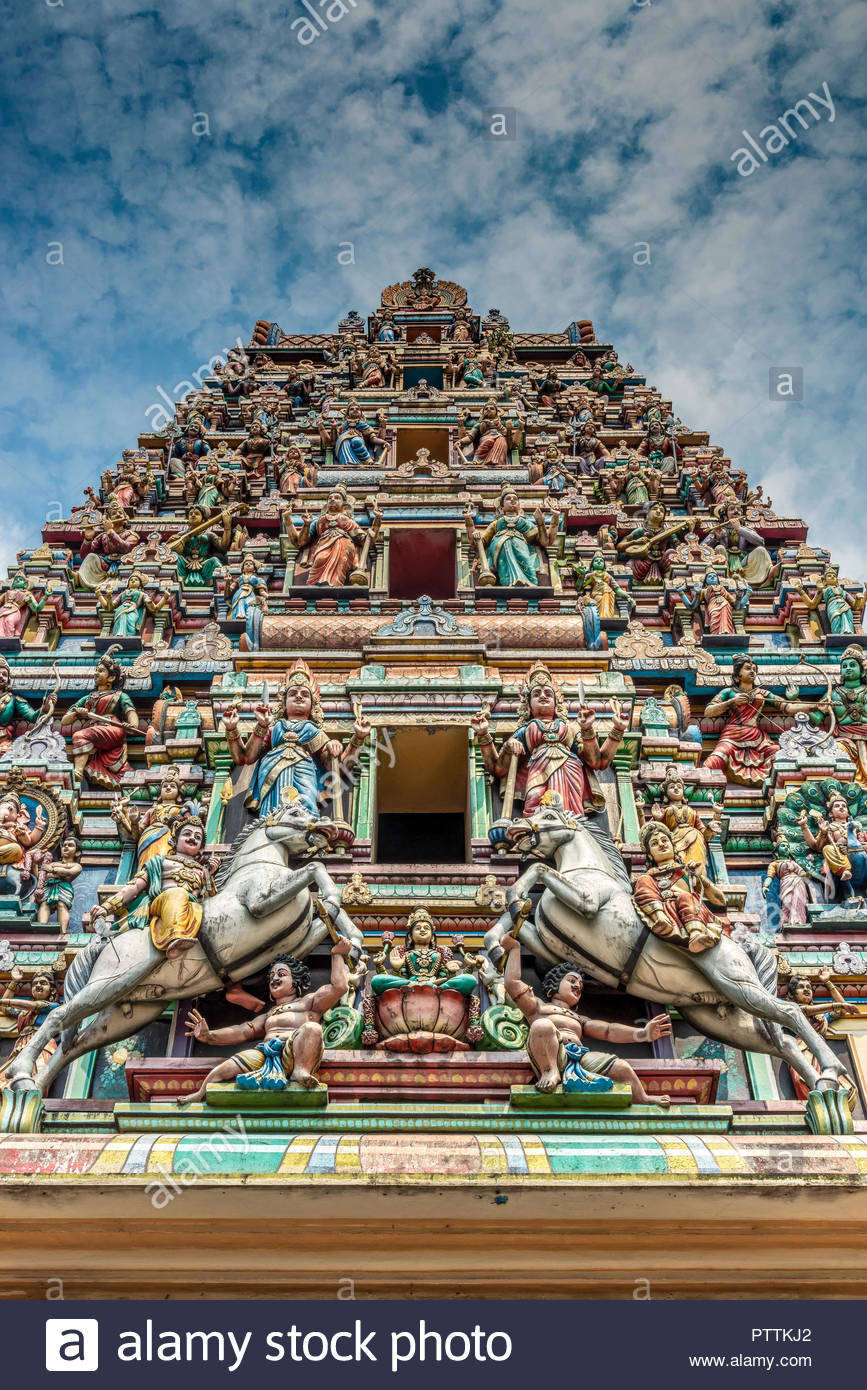Hindu Temple: (7, 288, 867, 1177)
